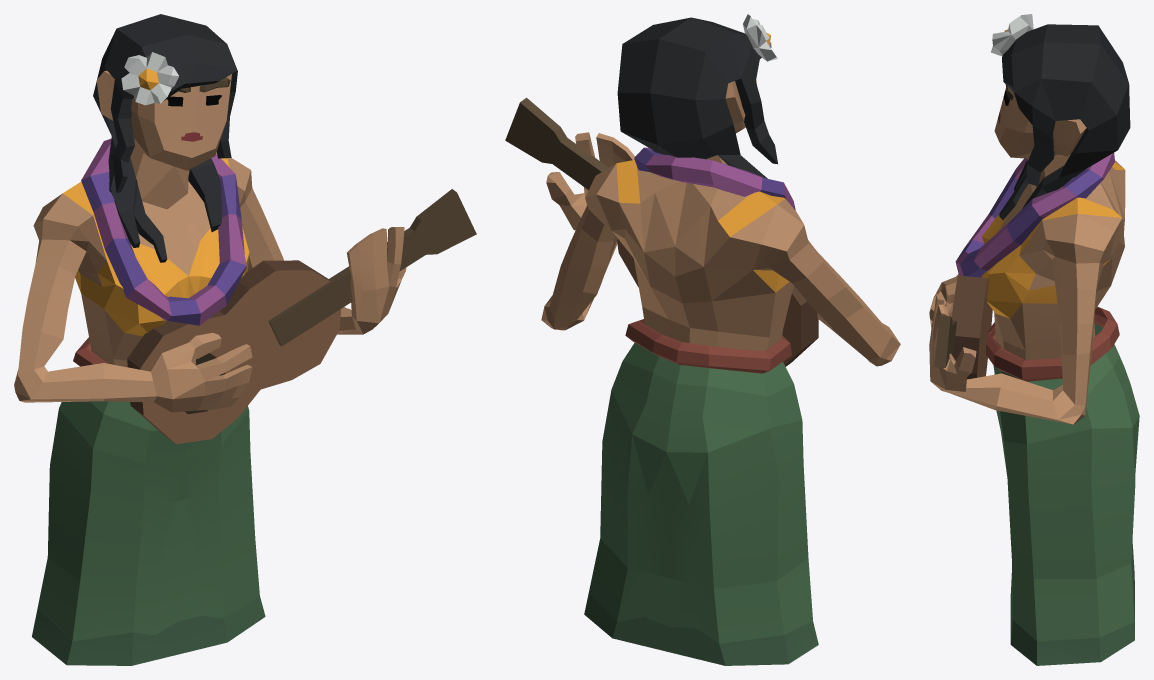
The model's file is SM_Prop_Car_Ornament_Top_01.obj.
The picture shows the model from 3 angles, left to right: view 1: azimuth 30°, elevation 25°; view 2: azimuth 150°, elevation 25°; view 3: azimuth 270°, elevation 25°; orthographic projection. The views are drawn at different scales.
Visible parts, largest first — view 1: SM_Prop_Car_Ornament_Top_01_0; view 2: SM_Prop_Car_Ornament_Top_01_0; view 3: SM_Prop_Car_Ornament_Top_01_0.
Boxes of the visible parts, box(x1,y1,x2,y2) form: SM_Prop_Car_Ornament_Top_01_0: box(14, 14, 476, 665); SM_Prop_Car_Ornament_Top_01_0: box(505, 14, 900, 665); SM_Prop_Car_Ornament_Top_01_0: box(929, 14, 1139, 665).
Bounding box in the file's own units: 0.1864 × 0.2566 × 0.0823.
Materials: 1 (1 with a texture image).
